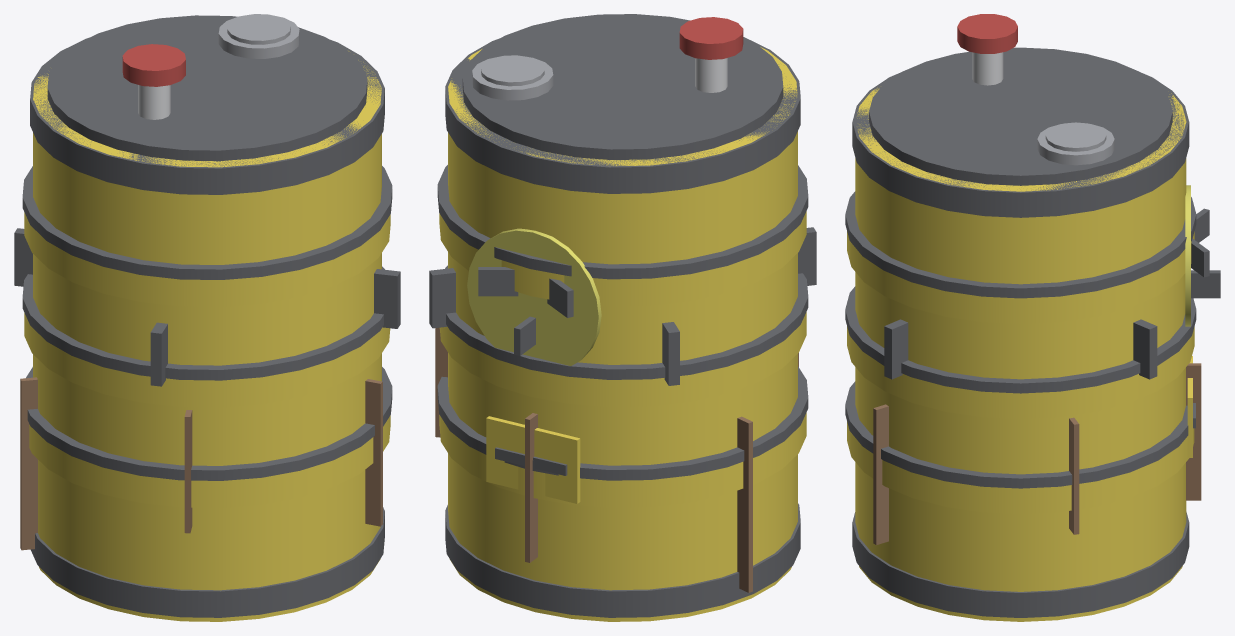
File: PR_barrel_radioactive.fbx
The picture shows the model from 3 angles, left to right: view 1: azimuth 30°, elevation 25°; view 2: azimuth 150°, elevation 25°; view 3: azimuth 270°, elevation 25°; orthographic projection. The views are drawn at different scales.
Parts seen in each view (by area): view 1: PR_barrel_radioactive; view 2: PR_barrel_radioactive; view 3: PR_barrel_radioactive.
Boxes of the visible parts, x1,y1,x2,y2 form: PR_barrel_radioactive: (14,14,400,621); PR_barrel_radioactive: (429,14,816,621); PR_barrel_radioactive: (845,14,1220,621).
Size of the model in its own units: 0.636 by 0.985 by 0.68.
